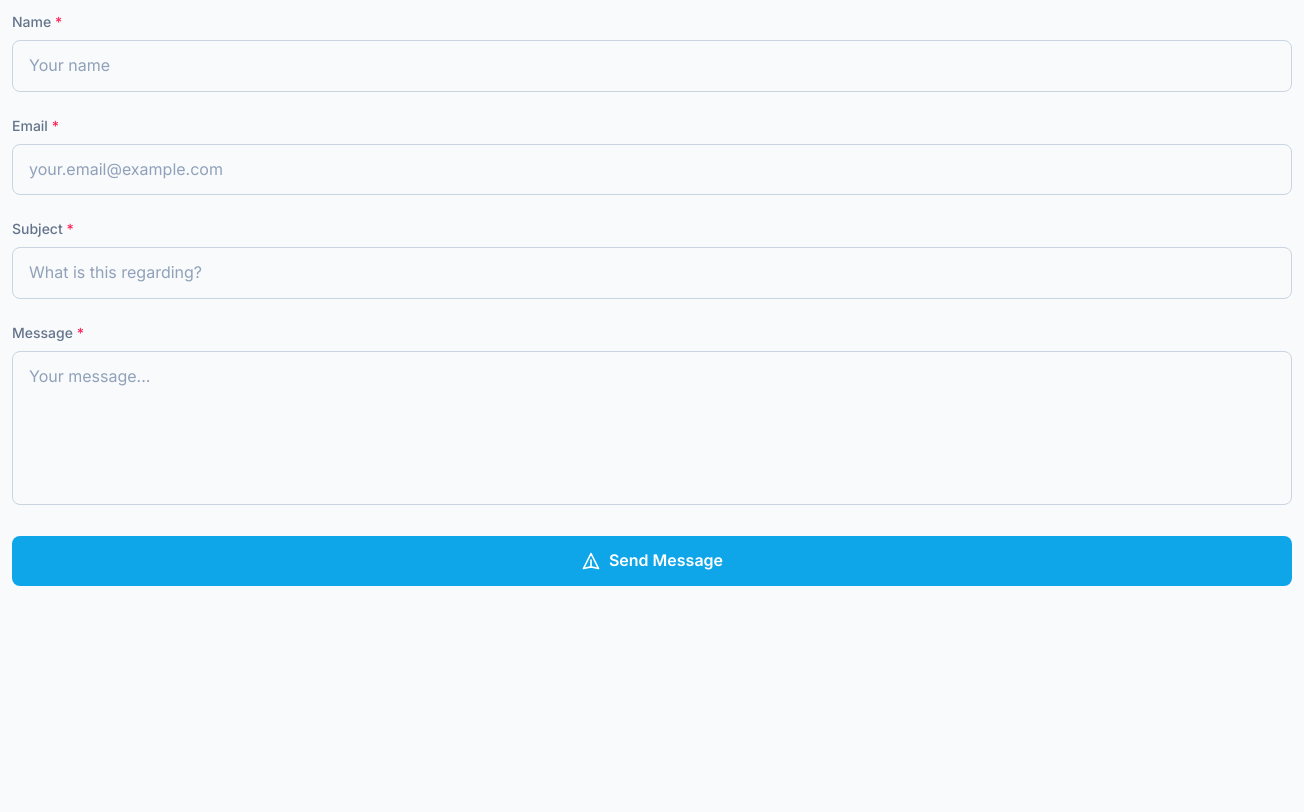
Test: ContactForm Component › shows error for name too short
The image size is (1304, 812).
In the field labelled "Name *": (652, 66) [12,40,1292,92], type "J"
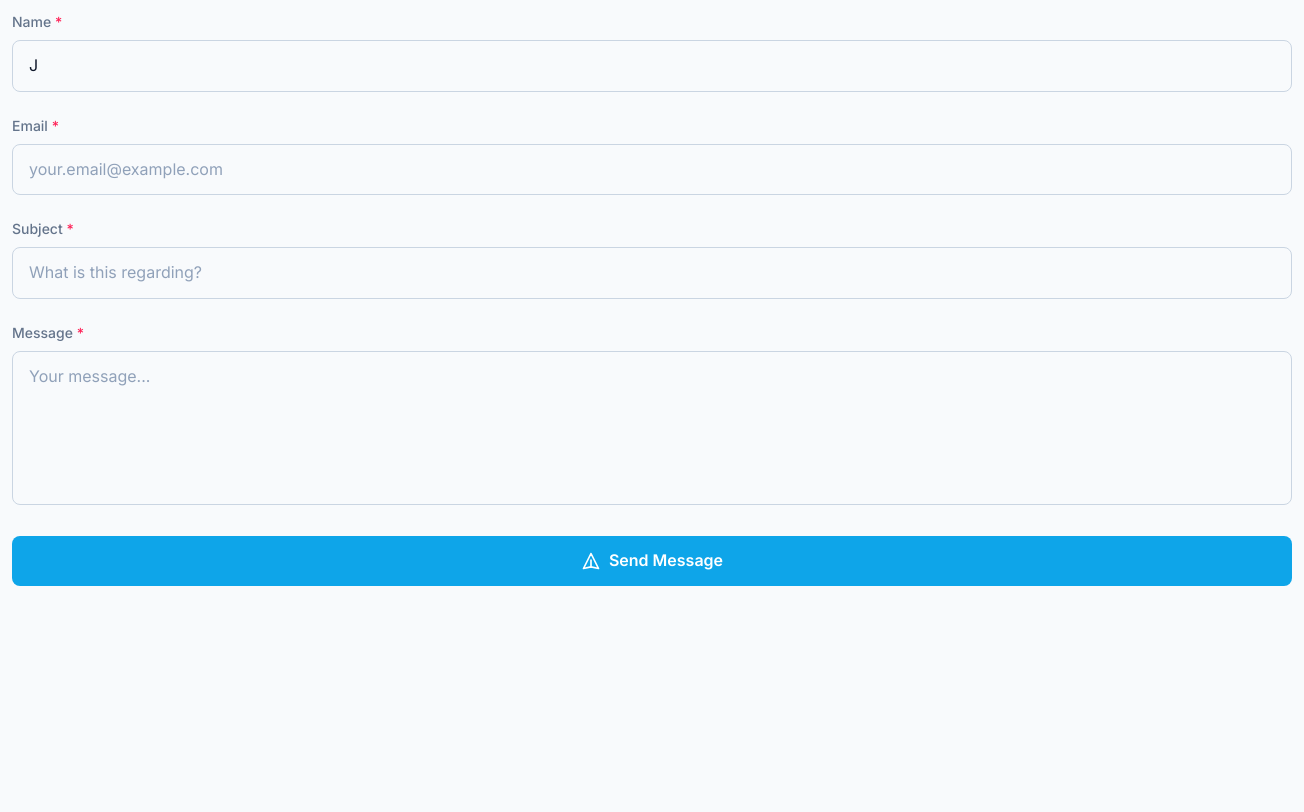
Click the button "Send Message": click(652, 561) [12,536,1292,586]
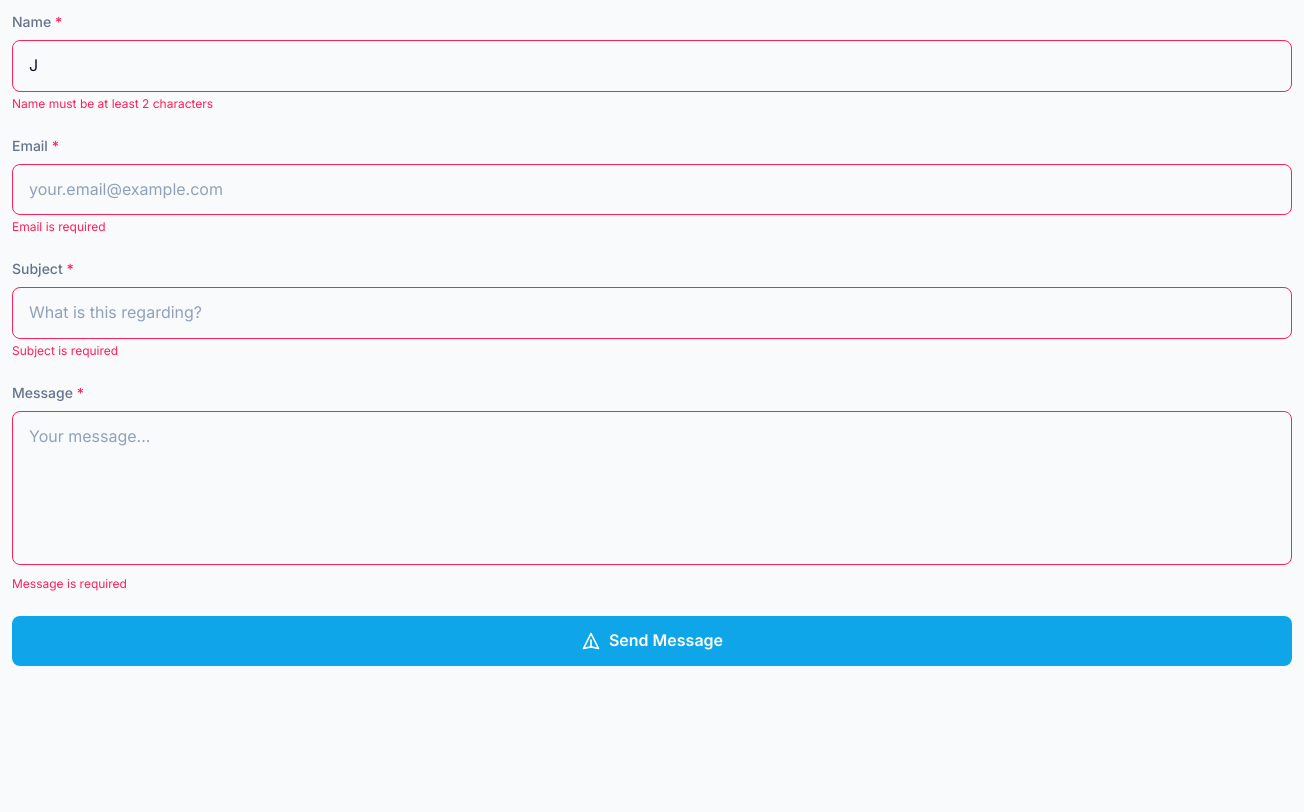
Expected: the text "Name must be at least 2 characters" is shown, [12,96,213,111]
